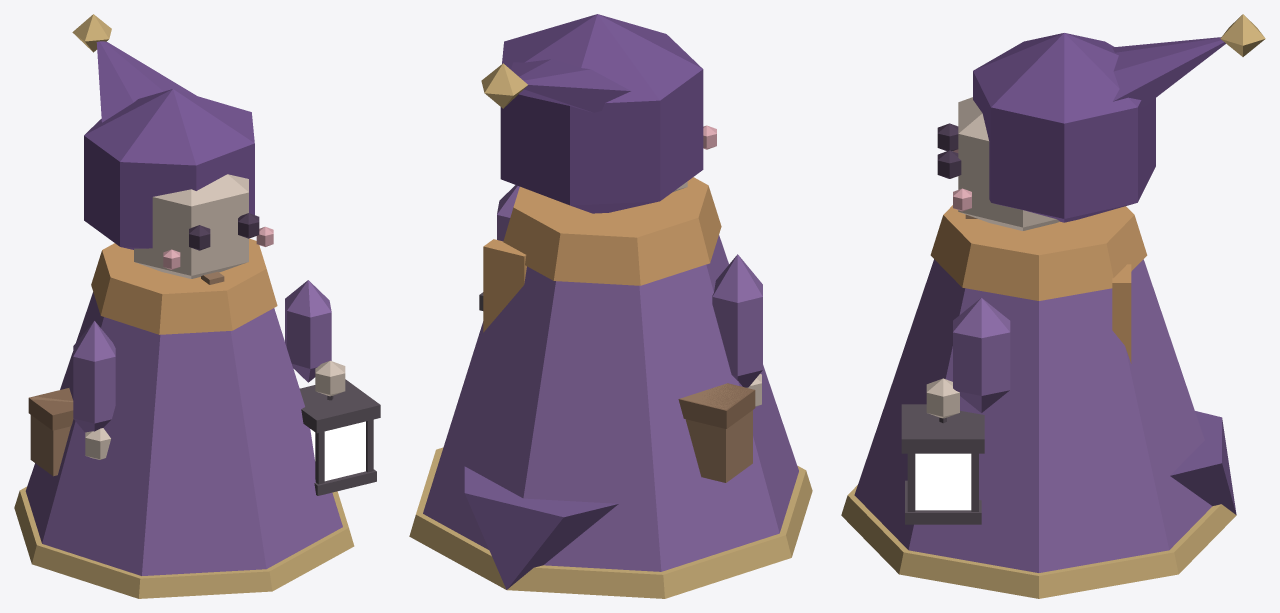
Rendered from player.glb.
3 renders of one model, left to right at view 1: azimuth 30°, elevation 25°; view 2: azimuth 150°, elevation 25°; view 3: azimuth 270°, elevation 25°, orthographic. The views are drawn at different scales.
Parts seen in each view (by area): view 1: Player; view 2: Player; view 3: Player.
Part boxes in pixels (bbox=[...]): Player: bbox=[14, 14, 380, 598]; Player: bbox=[409, 14, 812, 598]; Player: bbox=[841, 14, 1265, 598].
Size of the model in its own units: 1.24 by 1.77 by 1.33.
